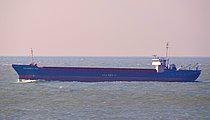Ship: (9, 56, 208, 88)
